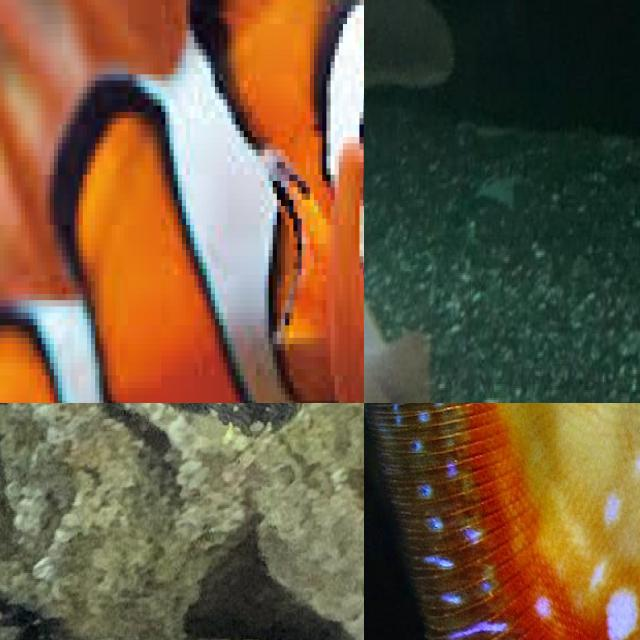fish: (0, 0, 364, 403), (364, 0, 570, 403), (364, 403, 640, 640)
